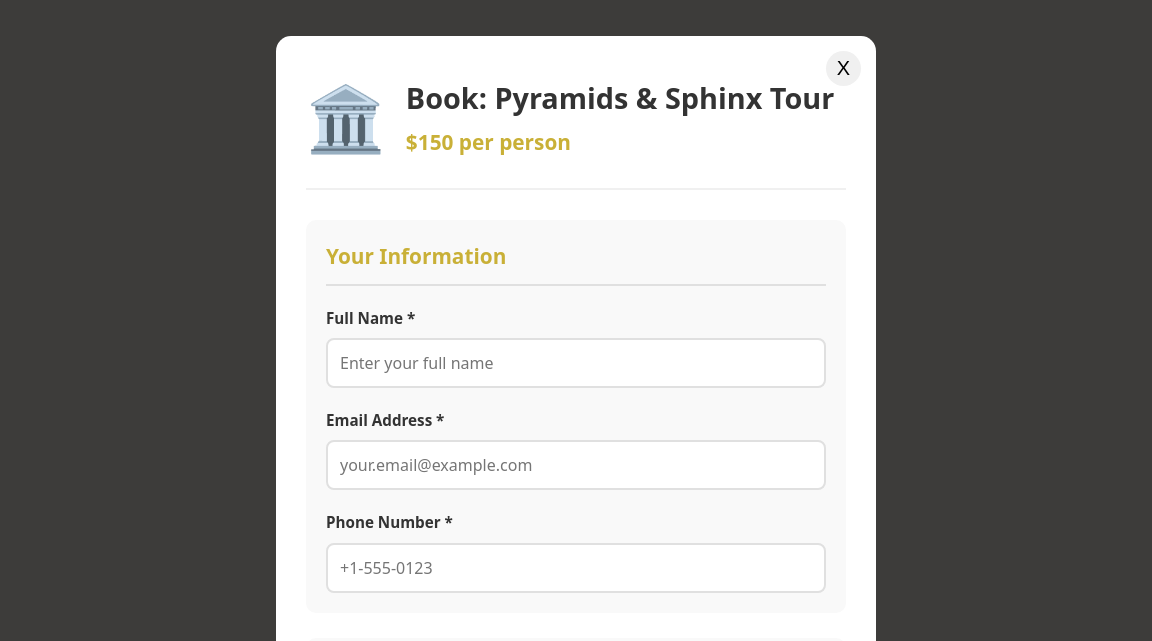
Test: BookingModal › submits booking and shows confirmation message
Type "Jane Doe" into the field labelled "Full Name *".
click(576, 363); type("Jane Doe")  # box [326,338,826,388]
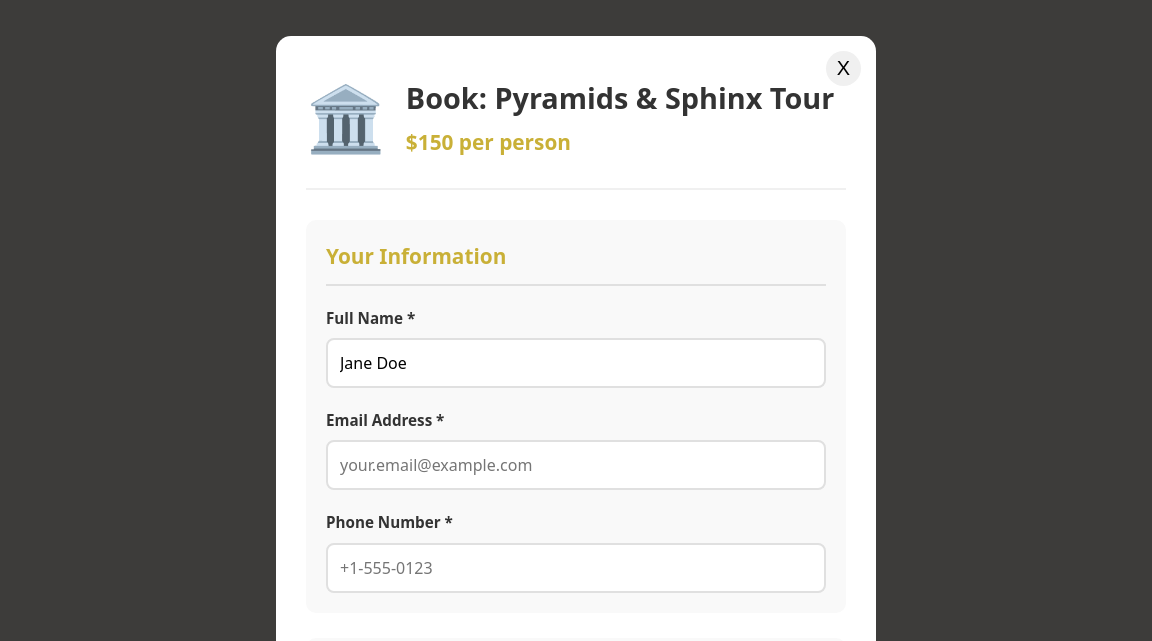
Type "jane@example.com" into the field labelled "Email Address *".
click(576, 465); type("jane@example.com")  # box [326,440,826,490]
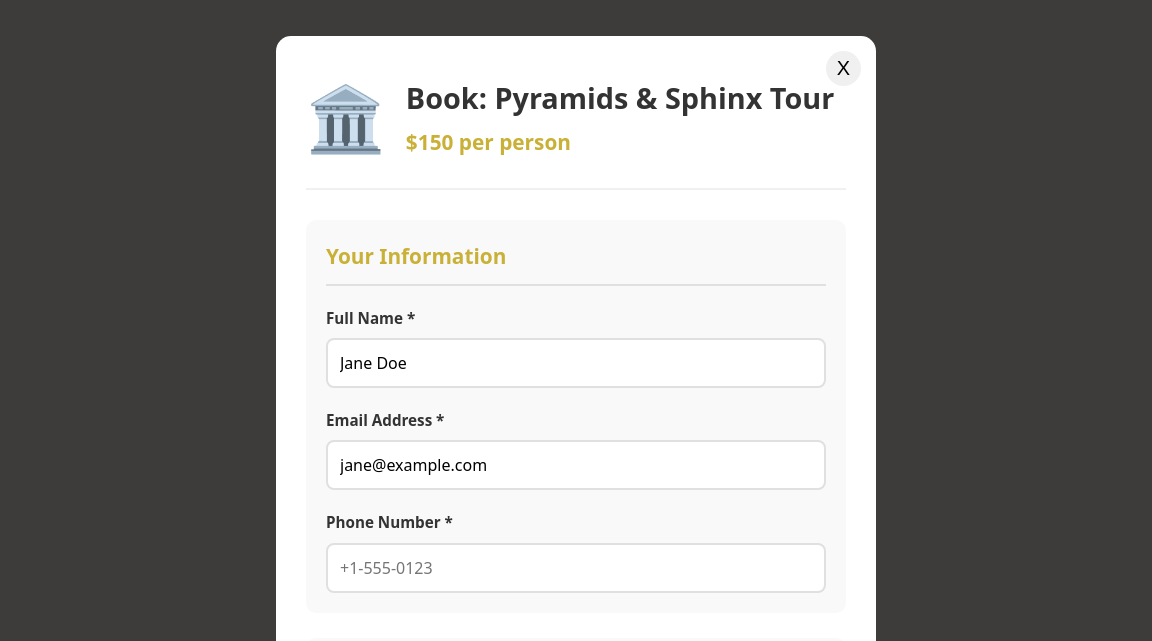
Type "+1-555-9999" into the field labelled "Phone Number *".
click(576, 568); type("+1-555-9999")  # box [326,543,826,593]
(page scrolled)
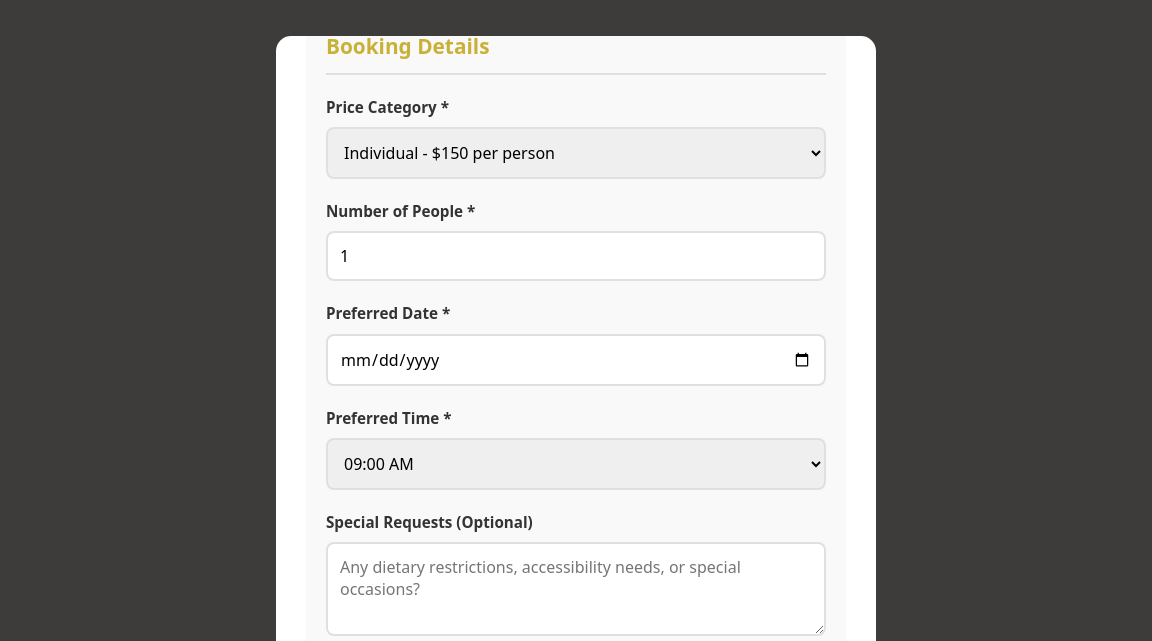
Type "2025-06-01" into the date field labelled "Preferred Date *".
click(576, 360); type("2025-06-01")  # box [326,334,826,386]
(page scrolled)
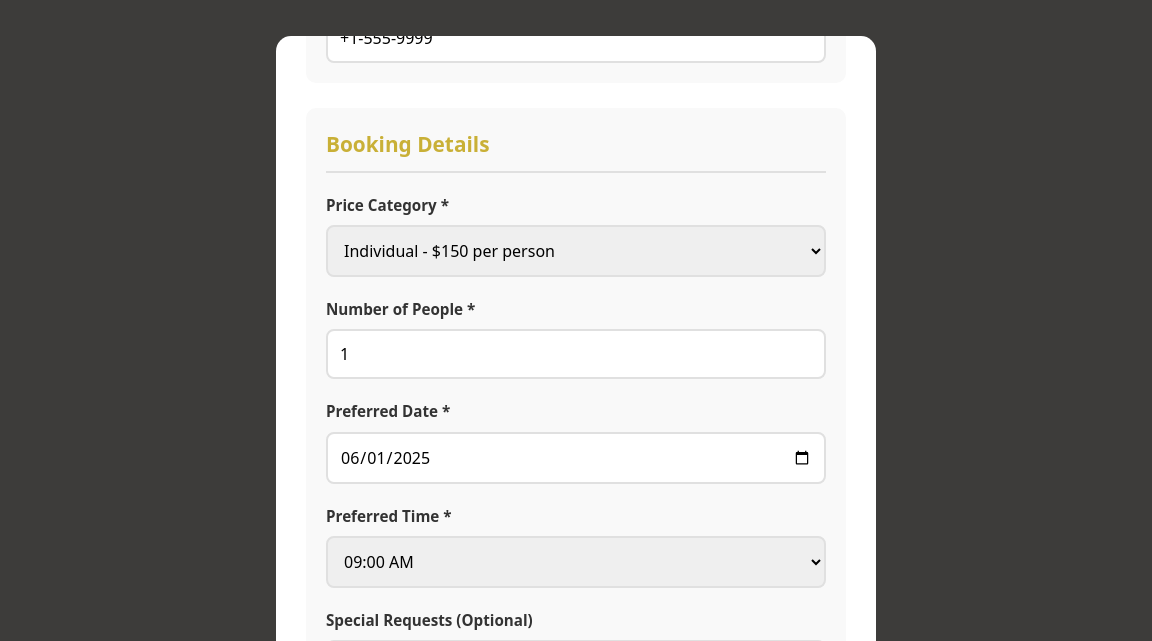
Submit the form named "confirm booking"
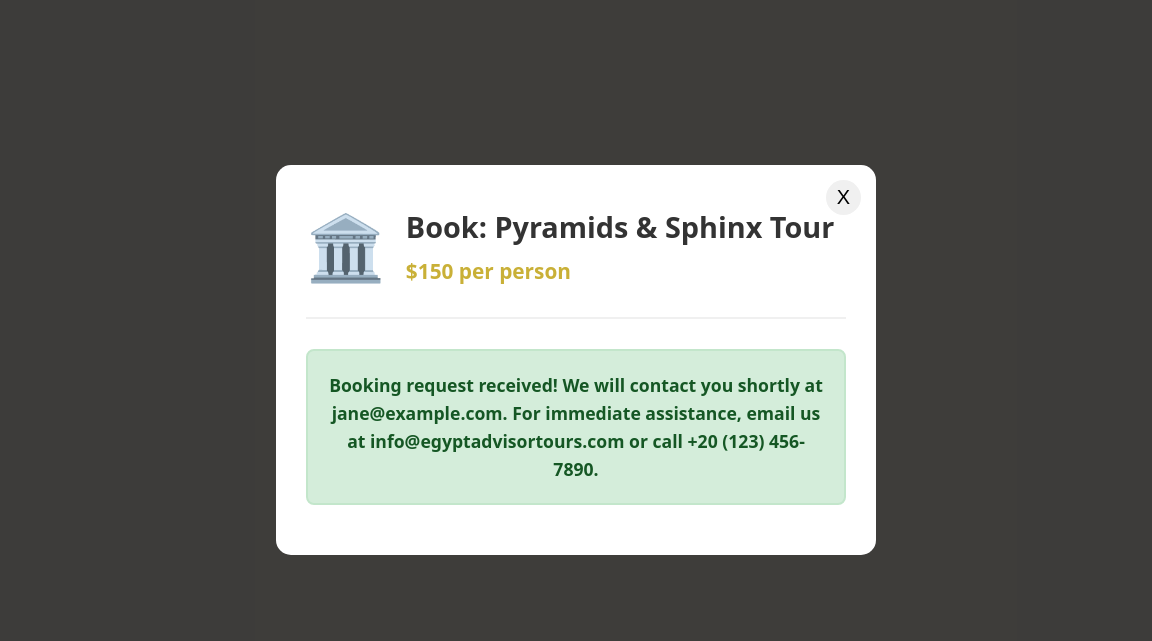
Expected: the message is shown, [306,349,846,506]
Expected: the message shows "Booking request received", [329,373,823,481]
